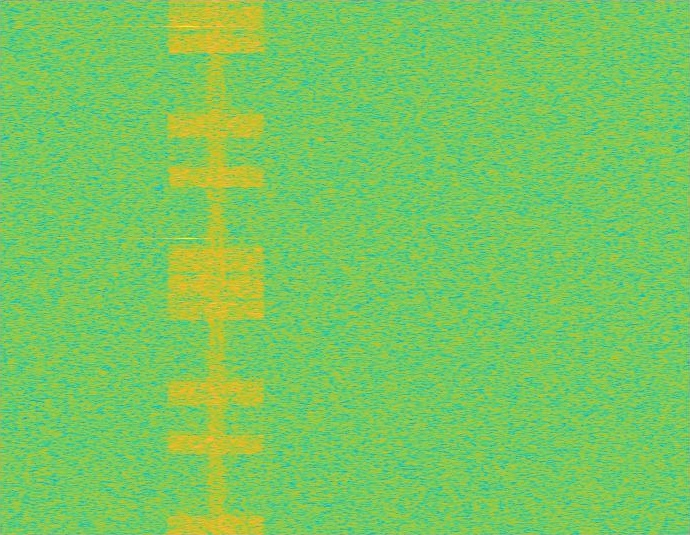DSSS: (205, 0, 228, 534)
LTE: (165, 0, 268, 534)
Radar: (180, 0, 194, 534)
